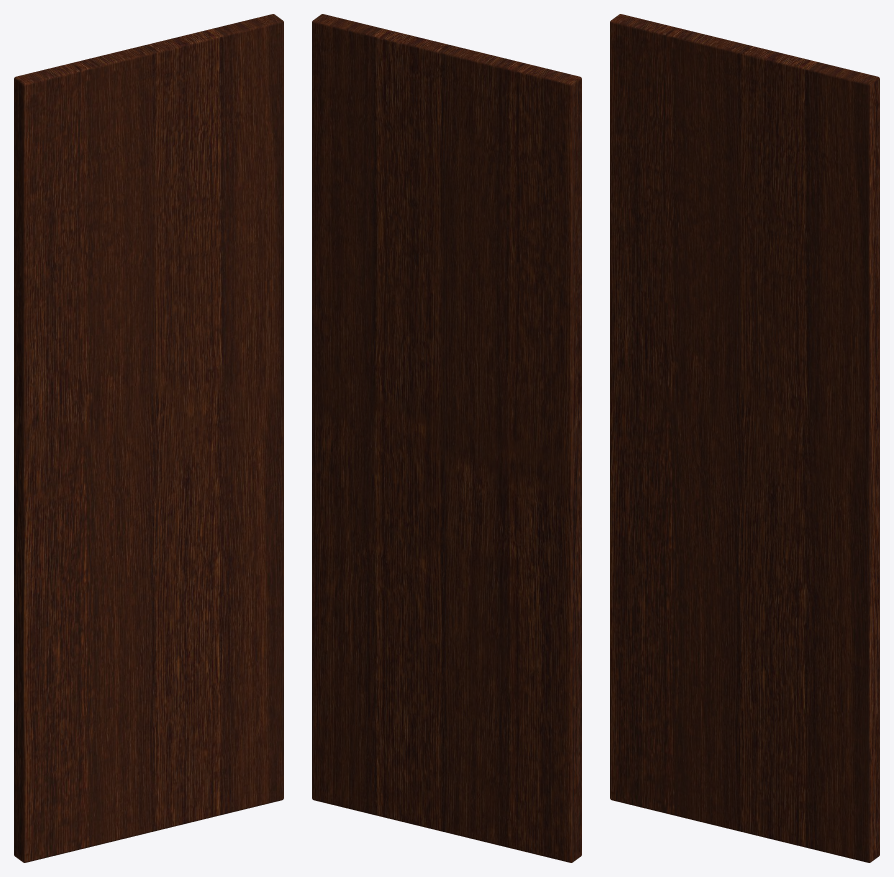
Rendered from door_leaf.fbx.
3 views of the same model, side by side, from view 1: azimuth 30°, elevation 25°; view 2: azimuth 150°, elevation 25°; view 3: azimuth 330°, elevation 25° (orthographic).
Parts seen in each view (by area): view 1: door_leaf; view 2: door_leaf; view 3: door_leaf.
Part boxes in pixels (x1=…): door_leaf: x1=14, y1=14, x2=283, y2=862; door_leaf: x1=312, y1=14, x2=581, y2=862; door_leaf: x1=610, y1=14, x2=879, y2=862.
Size of the model in its own units: 66.7 by 190 by 4.68.
